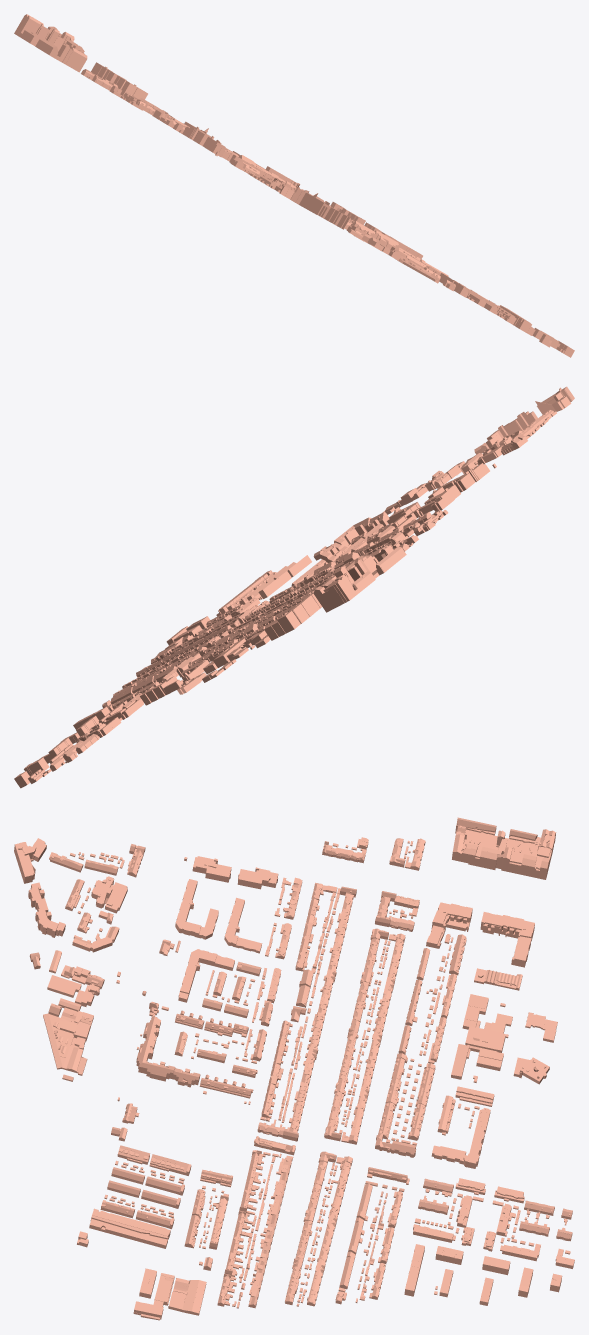
3 views of the same model, one above another, from view 1: azimuth 30°, elevation 25°; view 2: azimuth 150°, elevation 25°; view 3: azimuth 270°, elevation 25° (orthographic). The views are drawn at different scales.
Size of the model in its own units: 538 by 399 by 651.
